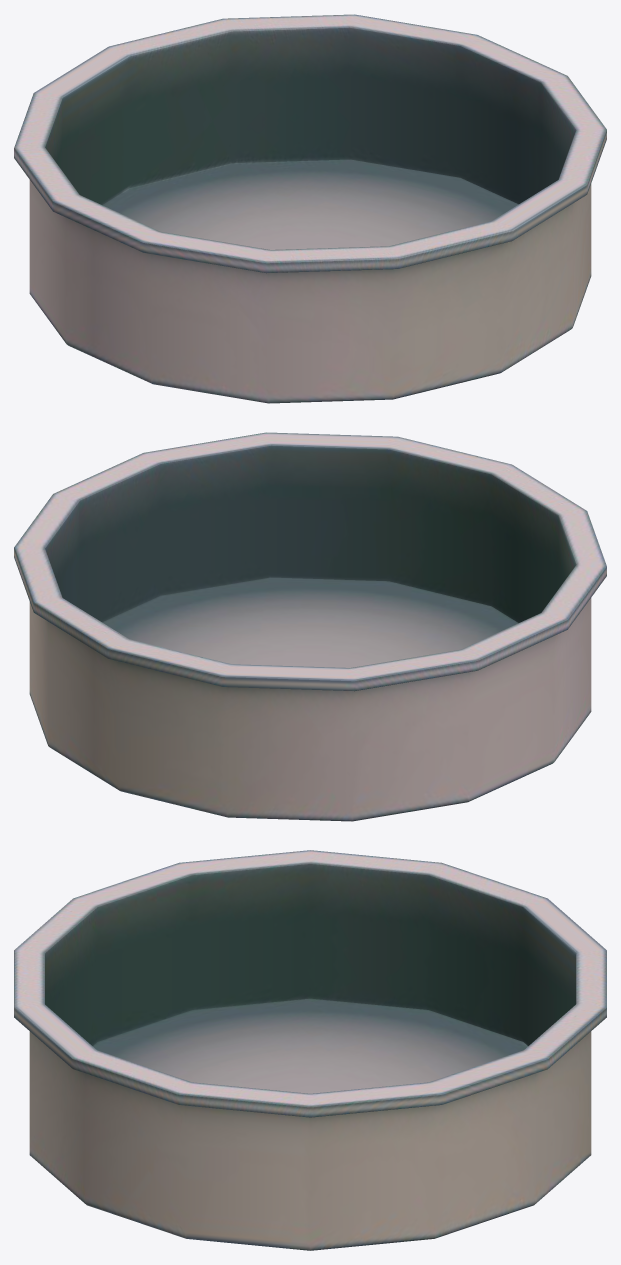
Rendered from bakingTin.gltf.
3 renders of one model, top to bottom at view 1: azimuth 30°, elevation 25°; view 2: azimuth 150°, elevation 25°; view 3: azimuth 270°, elevation 25°, orthographic. The views are drawn at different scales.
Visible parts, largest first — view 1: BakingTin; view 2: BakingTin; view 3: BakingTin.
Boxes of the visible parts, bbox=[...] form: BakingTin: bbox=[14, 14, 606, 403]; BakingTin: bbox=[14, 432, 606, 821]; BakingTin: bbox=[14, 850, 606, 1250].
Bounding box in the file's own units: 0.4193 × 0.1154 × 0.4088.
Materials: 1 (1 with a texture image).
